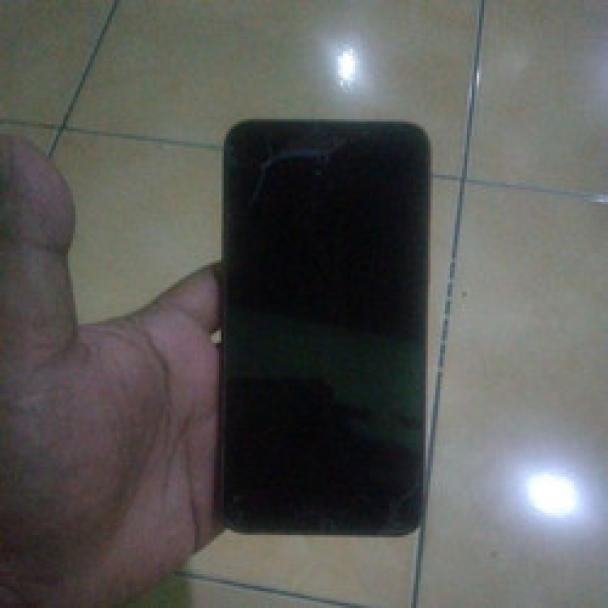Handphone: (217, 120, 424, 537)
